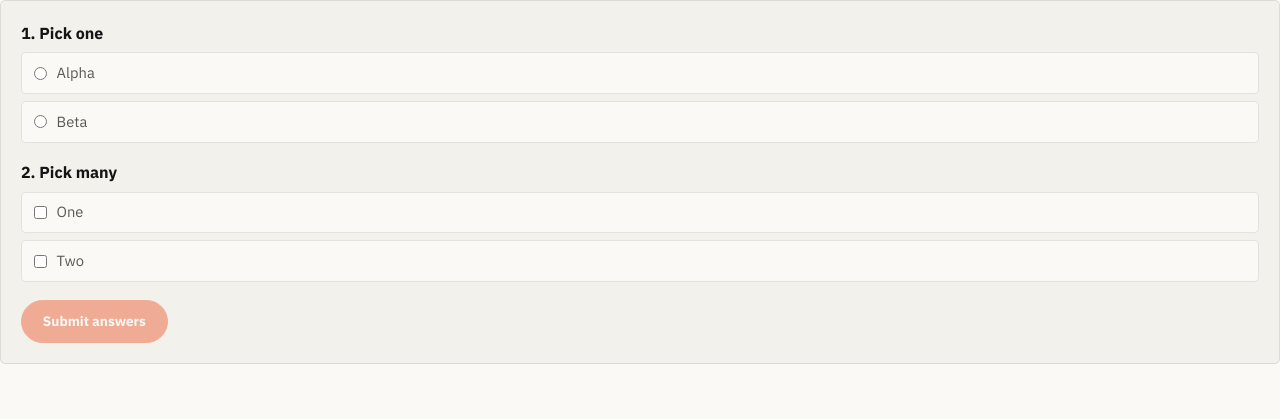
LearnerQuizPart › shows an error message when submission fails
This screenshot has width=1280, height=419.
What coordinates should you click on to do the following:
click the radio button labelled "Alpha"
I would click on:
 (40, 73)
Its box is [34,66,47,80].
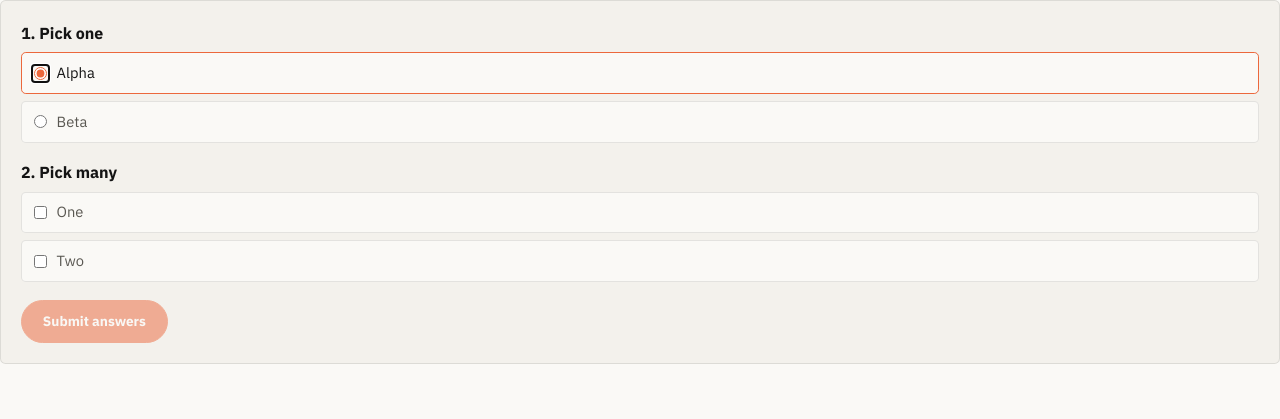
What coordinates should you click on to do the following:
click the checkbox labelled "One"
I would click on:
 (40, 212)
Its box is [34,206,47,219].
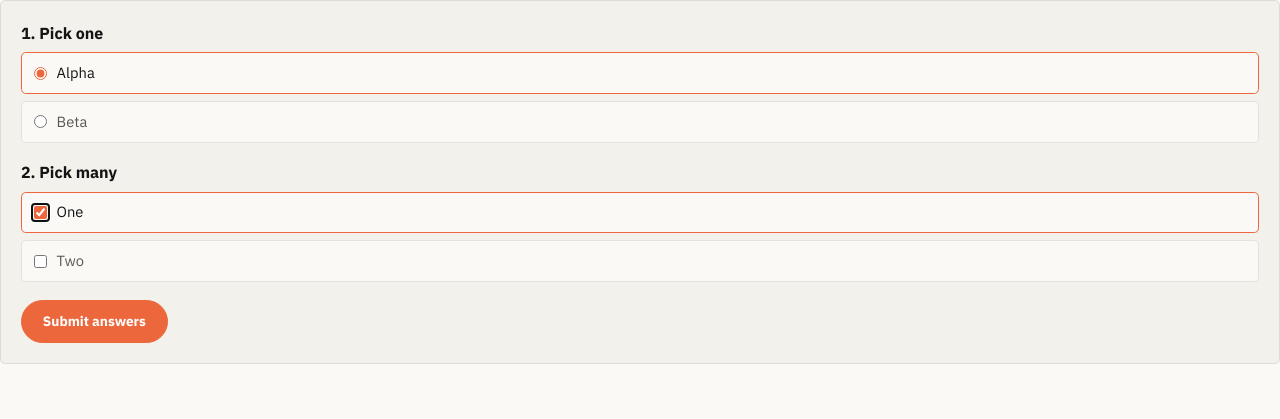
What coordinates should you click on to do the following:
click the button "Submit answers"
I would click on:
 (94, 321)
Its box is [21,300,168,343].
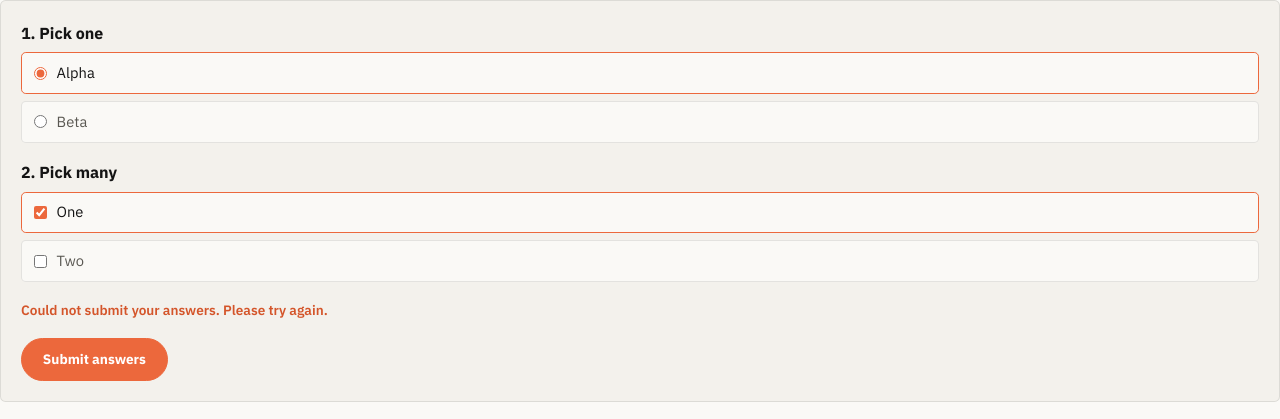
Expected: the message reads "Could not submit your answers. Please try again.", [21,301,328,319]
